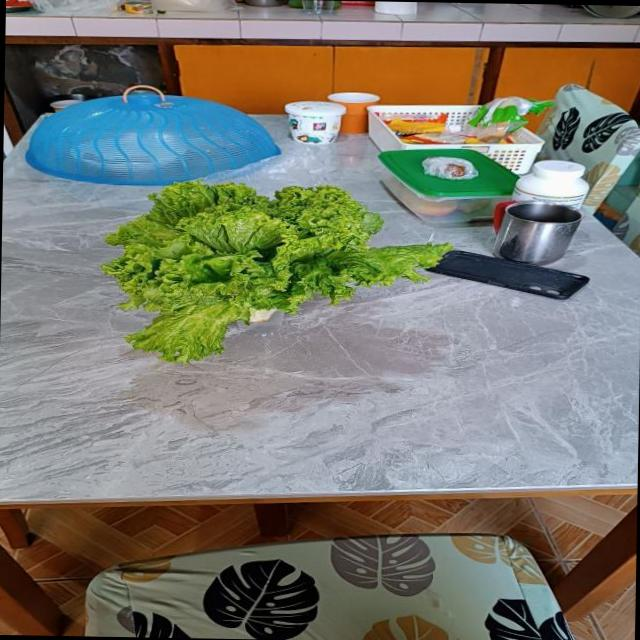Lettuce-Ready-to-Harvest: (102, 180, 450, 362)
